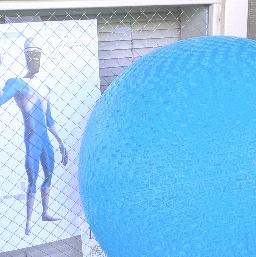algae: (74, 31, 256, 257)
